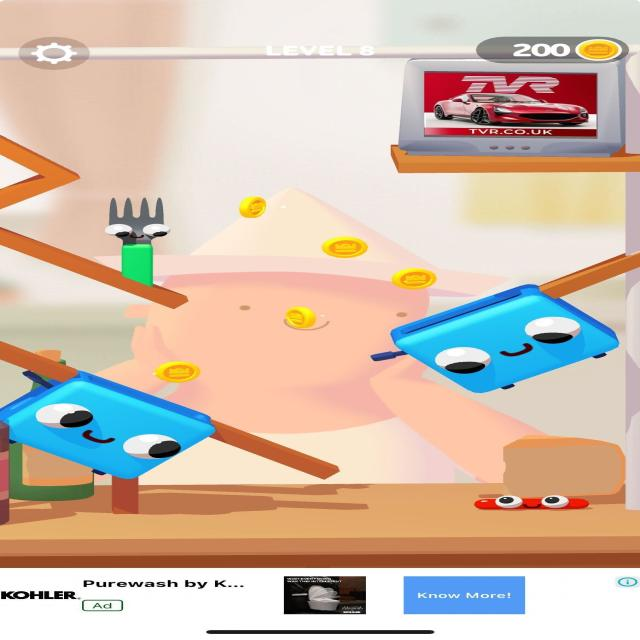billboard: (410, 66, 612, 144)
